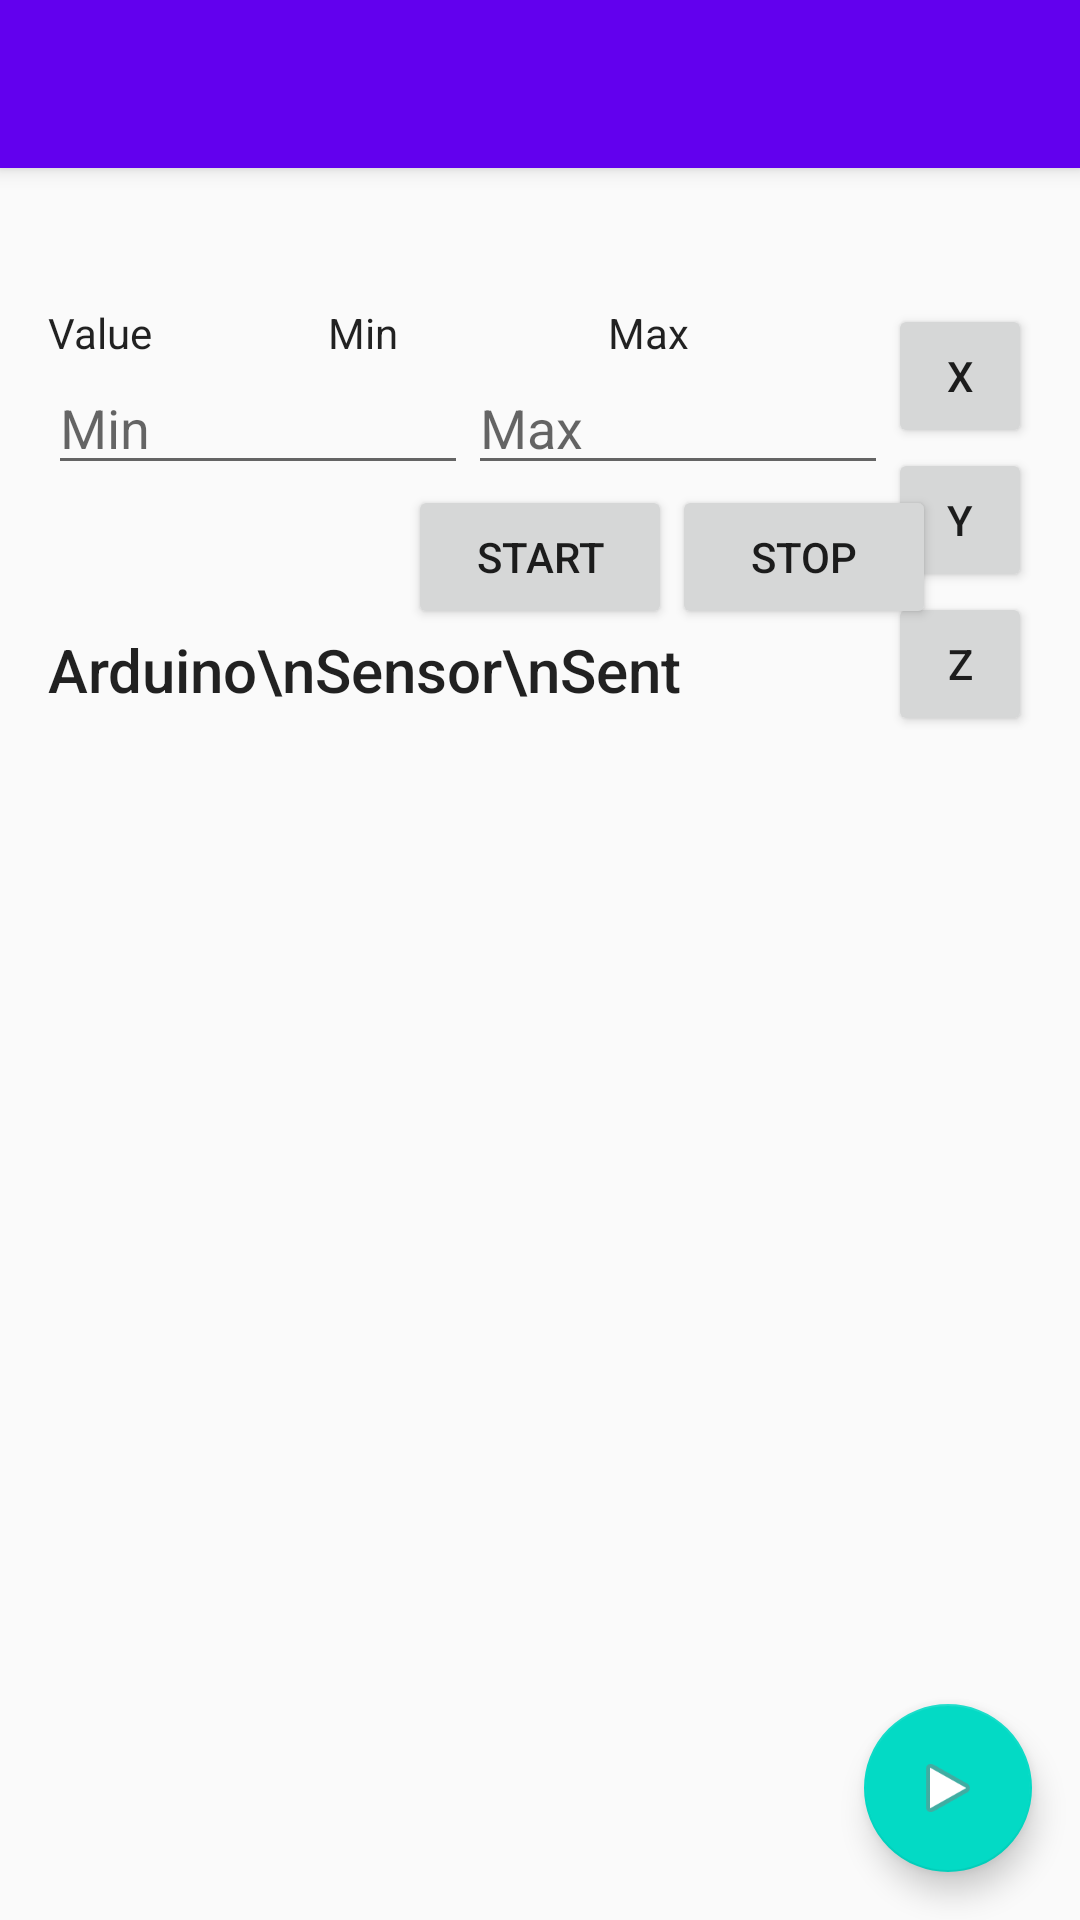

Screen size 1080px x 1920px. Icon name, then its center in pixels as point (x, y):
play: point (948, 1788)
